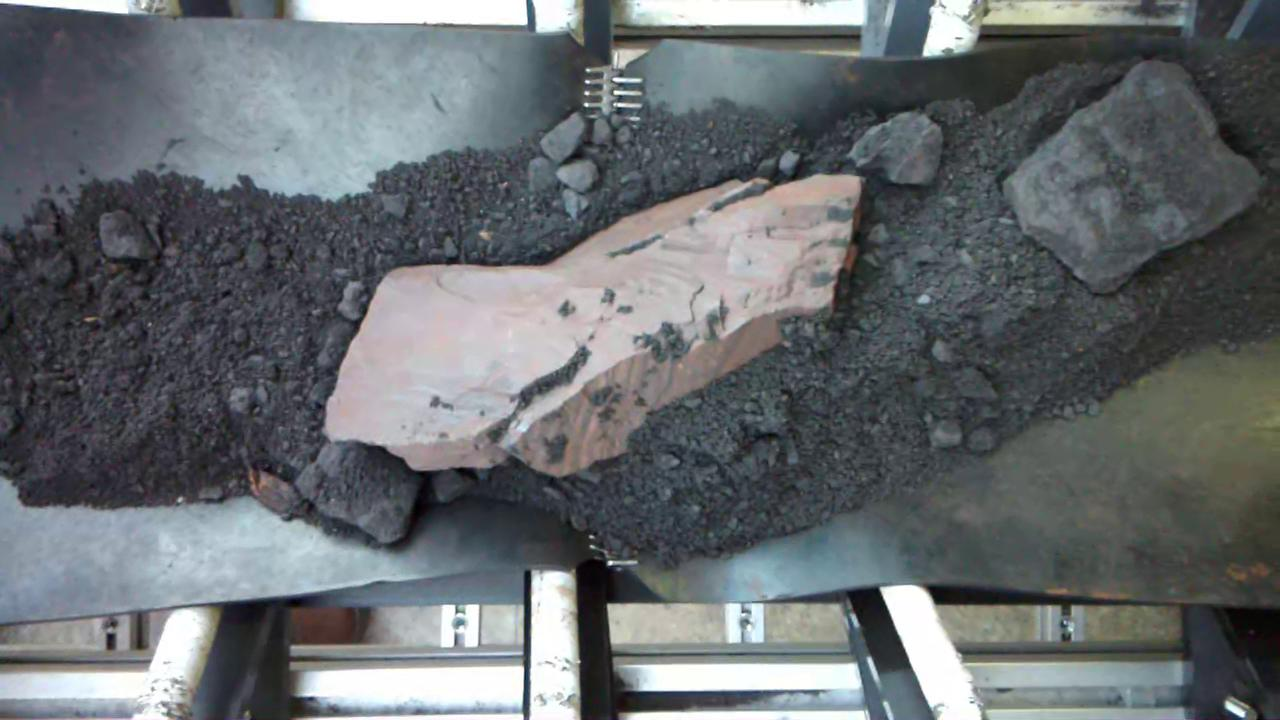conveyor: (6, 45, 1280, 587)
